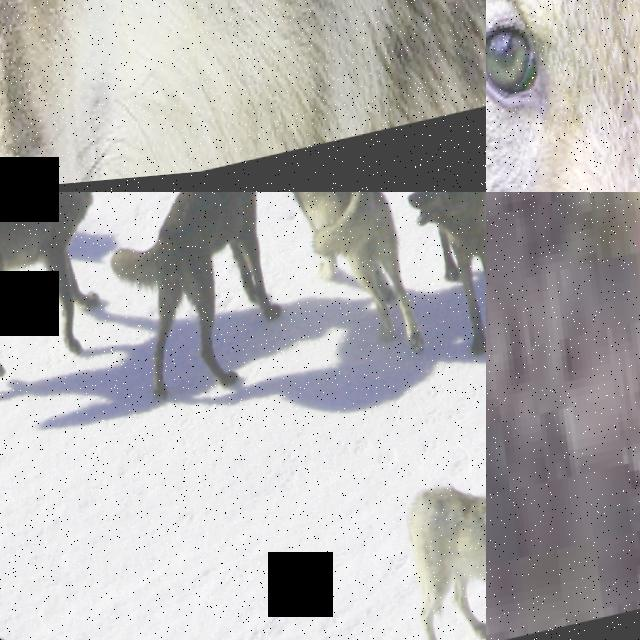dog: (486, 192, 640, 640)
wolf: (0, 0, 486, 192), (84, 192, 330, 473), (0, 192, 178, 448), (261, 192, 438, 414), (486, 0, 640, 192), (359, 439, 486, 640), (387, 192, 486, 413)
